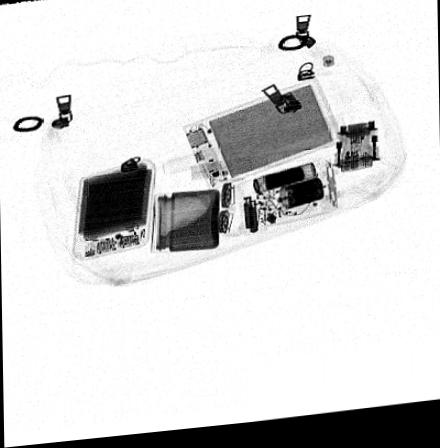Powerbank: (180, 81, 344, 196), (71, 161, 156, 263)
